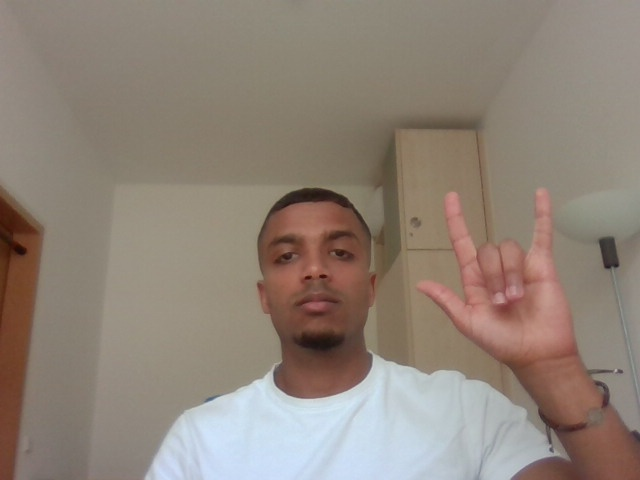absolutely: (403, 183, 598, 377)
